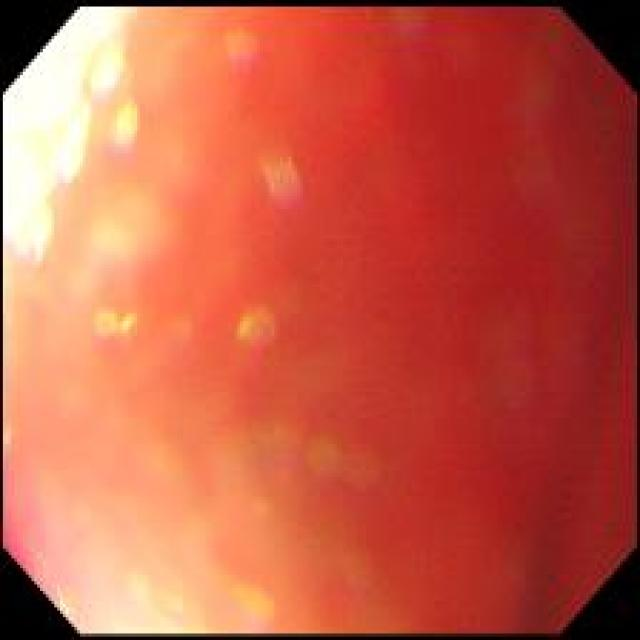color misalignment: (3, 5, 639, 637)
saturation: (5, 4, 138, 266)
